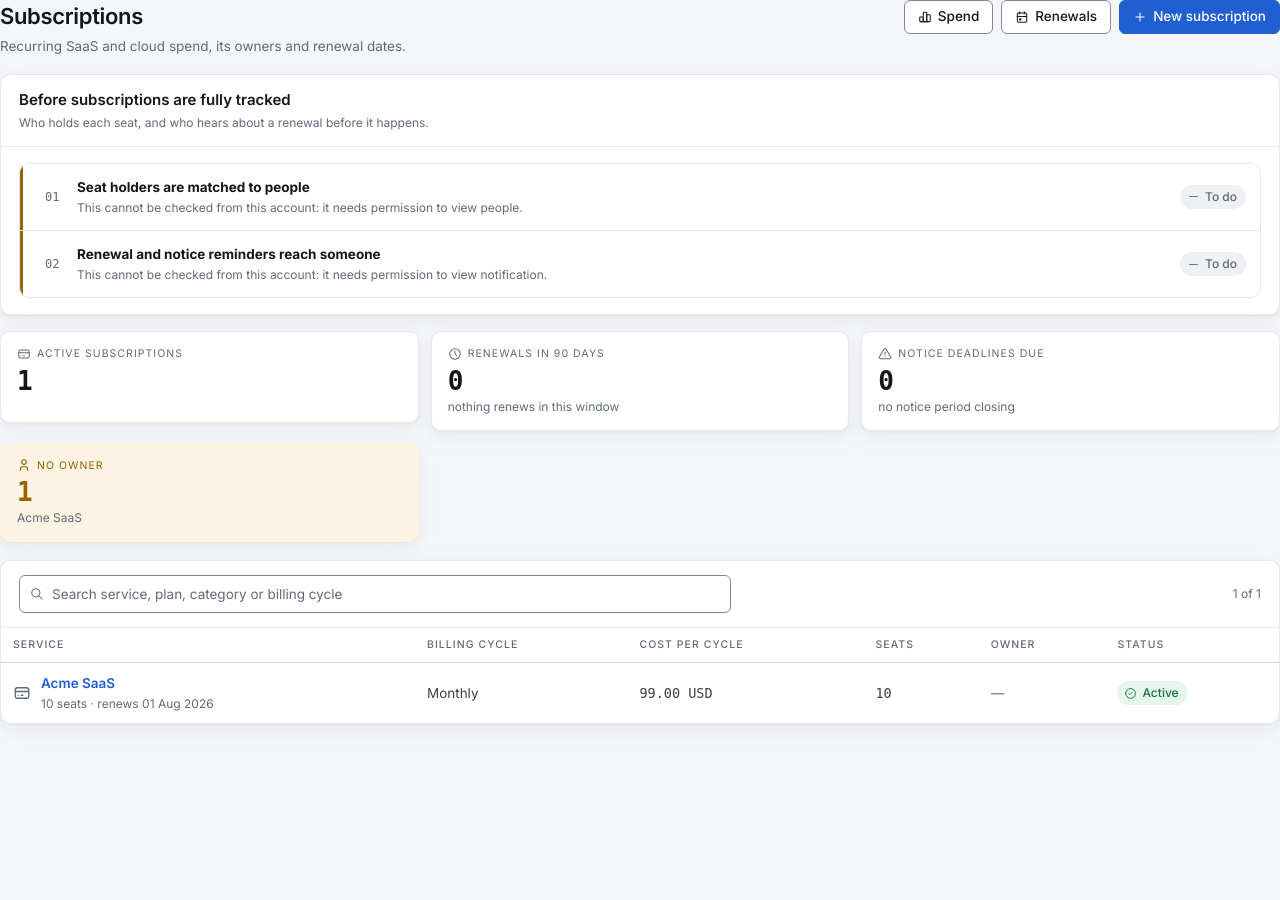
Test: SubscriptionsPage › names the missing field on an empty submit instead of disabling Save
Expected: the link "Acme SaaS" is shown, [41,675,115,691]
Step 1. Click the button "New subscription" → (1200, 17), box [1119,0,1279,34]
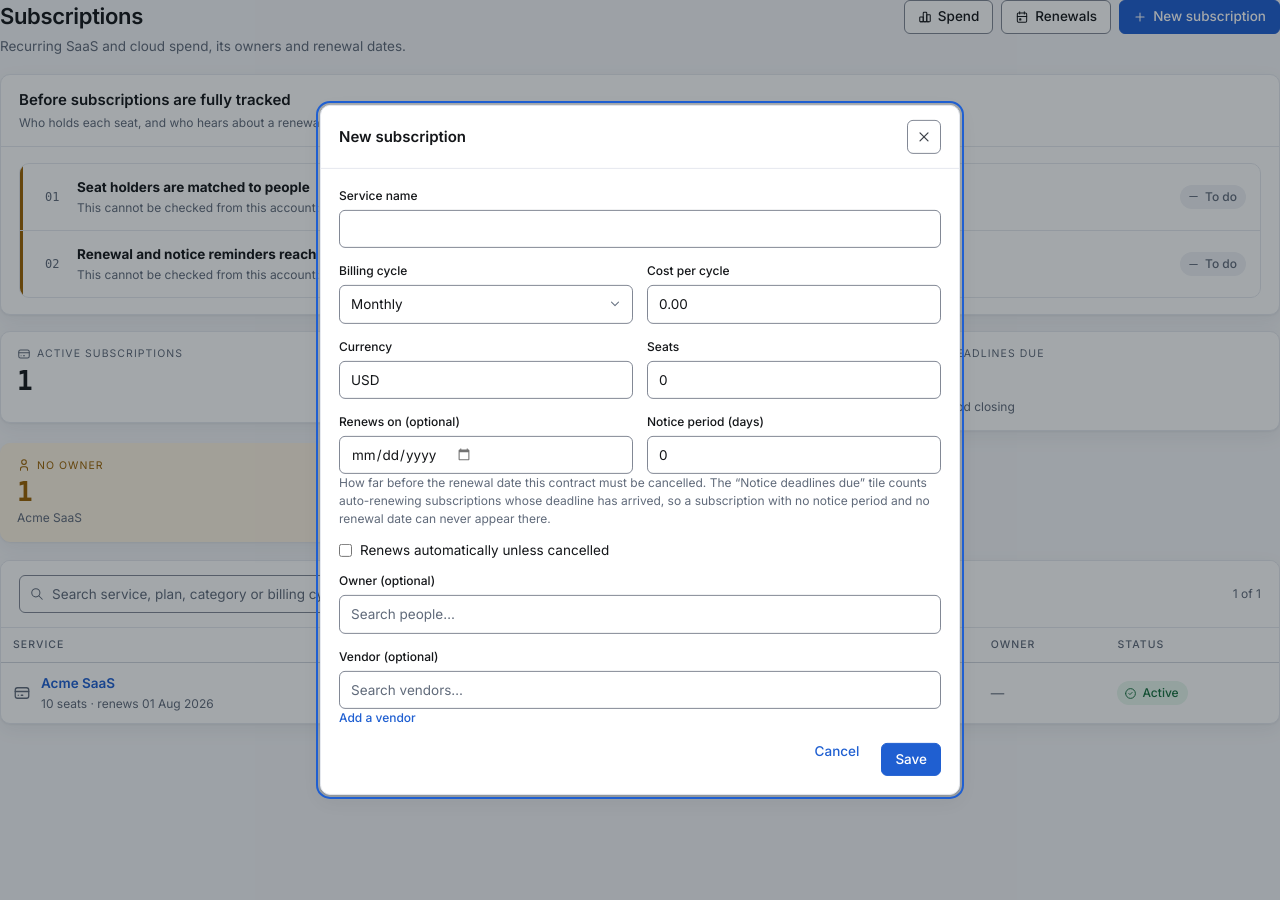
Now the button "Save" is enabled
Step 2. Click the button "Save" → (911, 759), box [881,743,941,776]
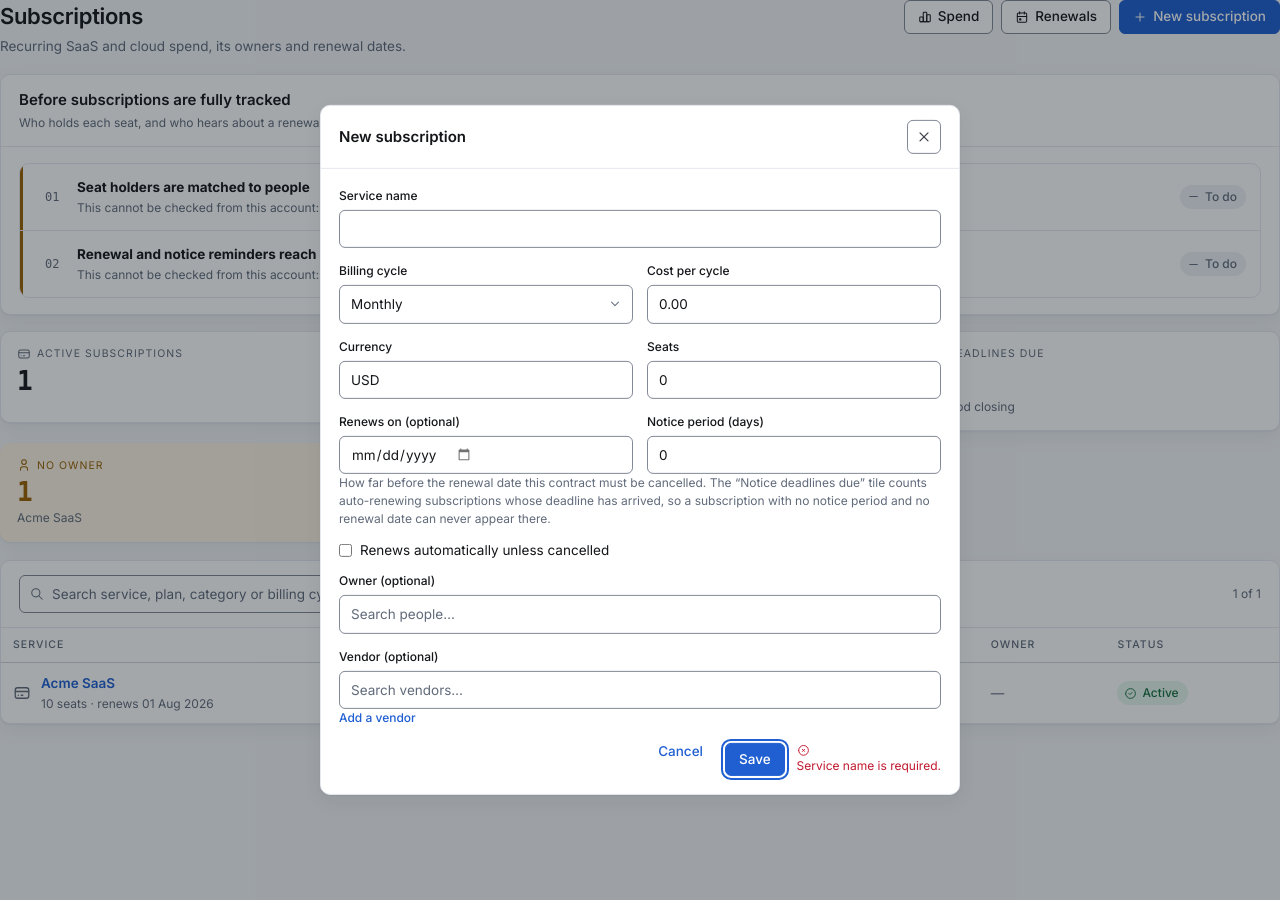
Now the message shows "Service name is required", box [797,758,938,773]
